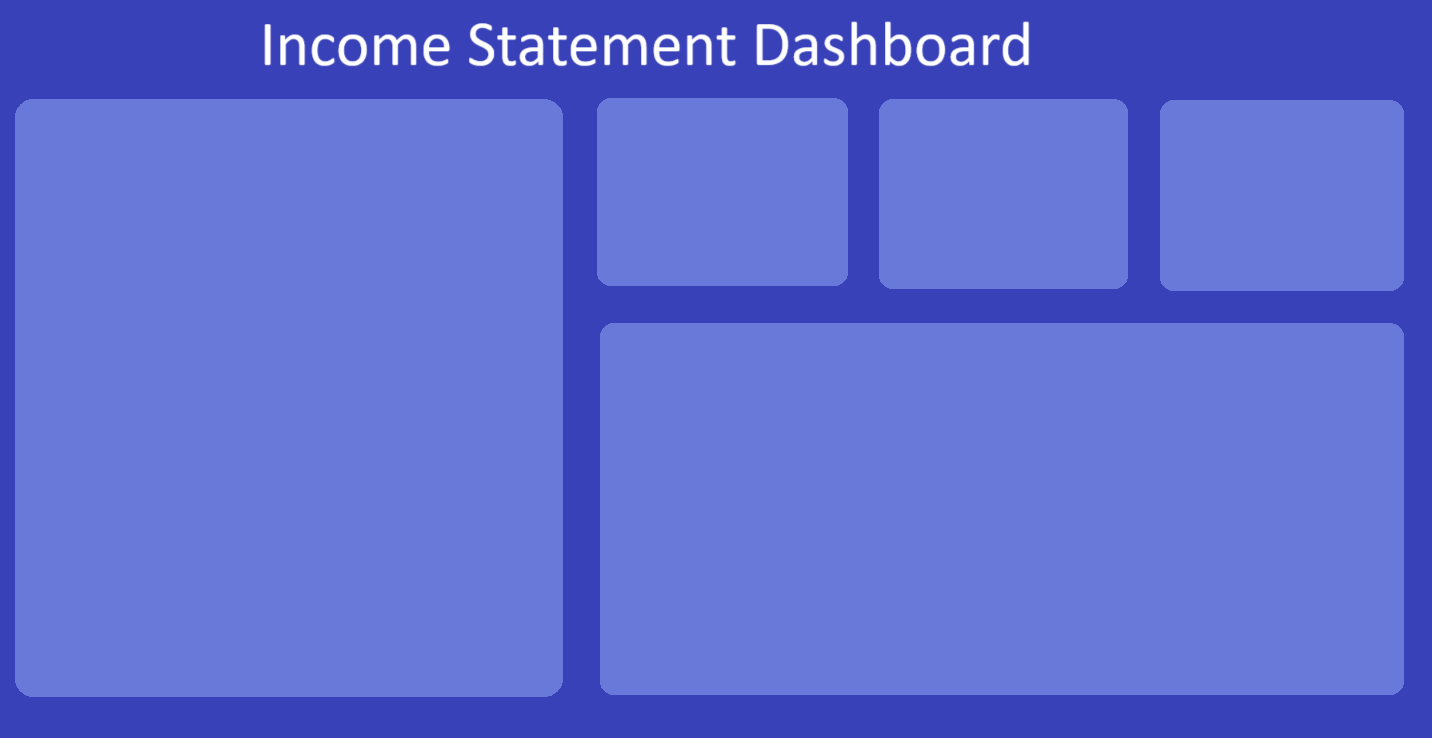

What the dashboard file says about the page in this screenshot:
{"tool":"powerbi","page":{"name":"Income Statement","canvas":[1280,720],"ordinal":0},"visuals":[{"type":"tableEx","fields":{"Values":["Yearly Income Statements.Index","Yearly Income Statements.Description","Yearly Income Statements.FY21","Yearly Income Statements.FY22"]},"box":[22.5,115,462.5,550],"z":0},{"type":"kpi","title":"Net Income","fields":{"Indicator":["Sum(Net Income.FY22)"],"Goal":["Sum(Net Income.FY21)"],"TrendLine":["Net Income.Description"]},"box":[540,106.2,213.8,165],"z":1000},{"type":"kpi","title":"Total Revenue","fields":{"Goal":["Sum(Total Revenue.FY21)"],"Indicator":["Sum(Total Revenue.FY22)"],"TrendLine":["Total Revenue.Description"]},"box":[791.2,106.2,213.8,165],"z":2000},{"type":"kpi","title":"Operating Income","fields":{"Goal":["Sum(Operating Income.FY21)"],"Indicator":["Sum(Operating Income.FY22)"],"TrendLine":["Operating Income.Description"]},"box":[1042.5,106.2,206.2,165],"z":3000},{"type":"clusteredColumnChart","title":"Net income Vs Total revenue : Yearly","fields":{"Category":["Chart data.Description"],"Y":["Sum(Chart data.Net income)","Sum(Chart data.      Total revenue)"]},"box":[551.2,326.2,697.5,347.5],"z":4000}]}

Visuals, with their boxes on the page's 1280x720 design canvas (x1, y1, x2, y2). These are canvas units, not pixel positions in the 1432x738 screenshot, which may show the page scaled, cropped or inside an application window:
tableEx - Yearly Income Statements.Index x Yearly Income Statements.Description: left=22, top=115, right=485, bottom=665
"Net Income" kpi: left=540, top=106, right=754, bottom=271
"Total Revenue" kpi: left=791, top=106, right=1005, bottom=271
"Operating Income" kpi: left=1042, top=106, right=1249, bottom=271
"Net income Vs Total revenue : Yearly" clusteredColumnChart: left=551, top=326, right=1249, bottom=674
